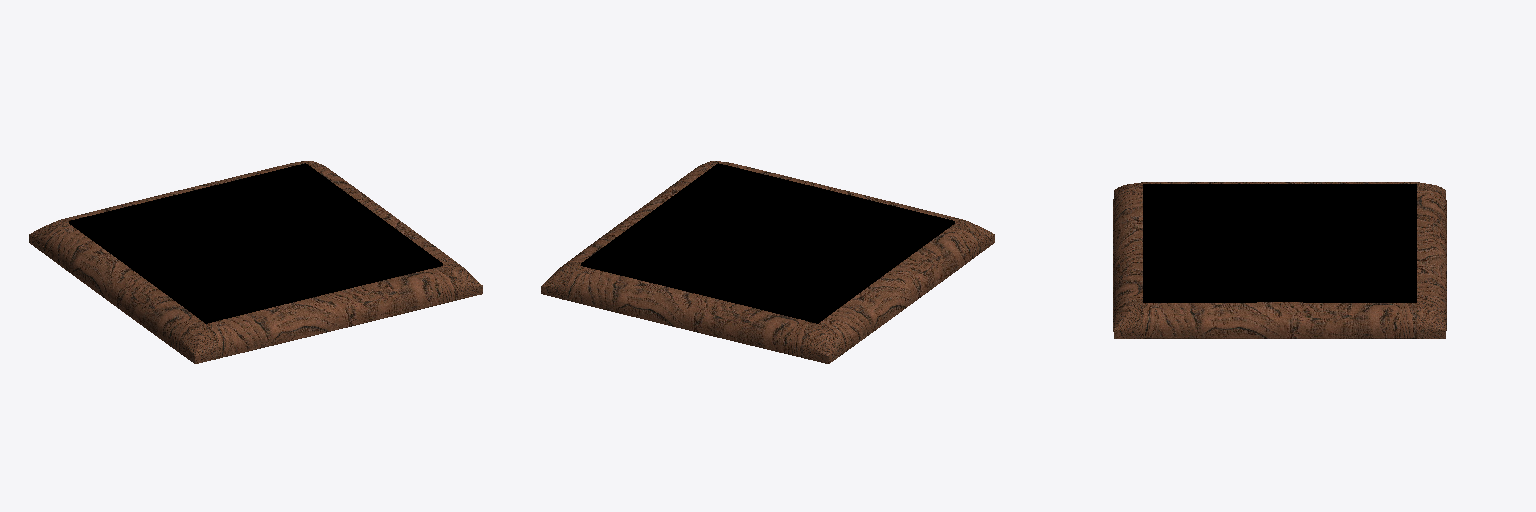
3 renders of one model, left to right at view 1: azimuth 30°, elevation 25°; view 2: azimuth 150°, elevation 25°; view 3: azimuth 270°, elevation 25°, orthographic.
Parts seen in each view (by area): view 1: s.0073, p.0109, s.0112; view 2: s.0073, p.0109, s.0112; view 3: s.0073, p.0109, s.0112.
Boxes of the visible parts, x1,y1,x2,y2 form: s.0073: [69, 163, 442, 323]; p.0109: [43, 162, 459, 357]; s.0112: [29, 161, 482, 363]; s.0073: [581, 163, 954, 323]; p.0109: [563, 162, 980, 357]; s.0112: [541, 161, 994, 363]; s.0073: [1143, 184, 1416, 302]; p.0109: [1113, 182, 1446, 338]; s.0112: [1113, 182, 1446, 338].
Size of the model in its own units: 0.9519 by 0.088 by 0.9519.
2 materials, 1 textured.